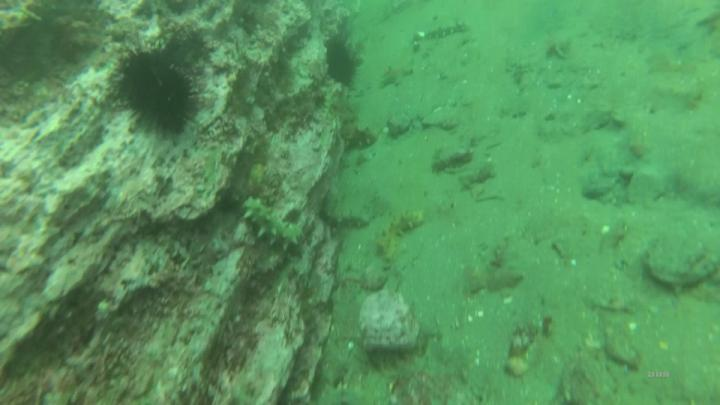echinus: (113, 38, 203, 146), (327, 40, 366, 91)
holothurian: (241, 194, 308, 252), (372, 206, 429, 259), (337, 118, 378, 150), (326, 203, 370, 231), (415, 22, 470, 41)
